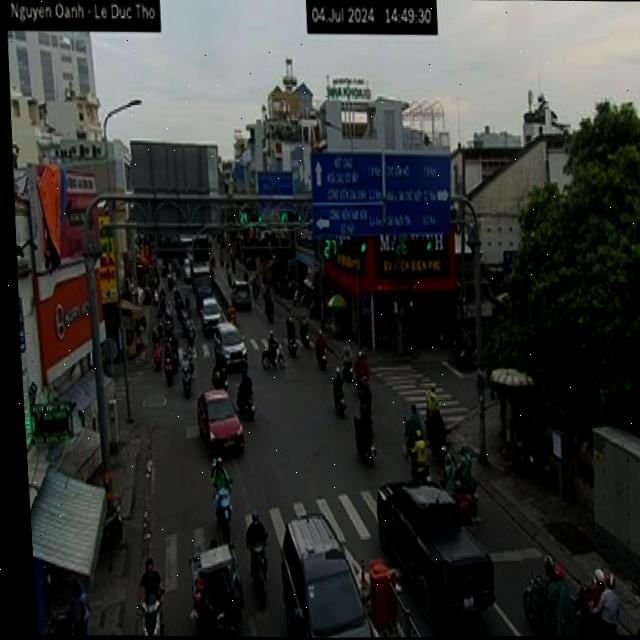Green: (405, 238, 435, 257), (341, 239, 367, 258), (284, 211, 303, 225), (243, 213, 261, 226)
